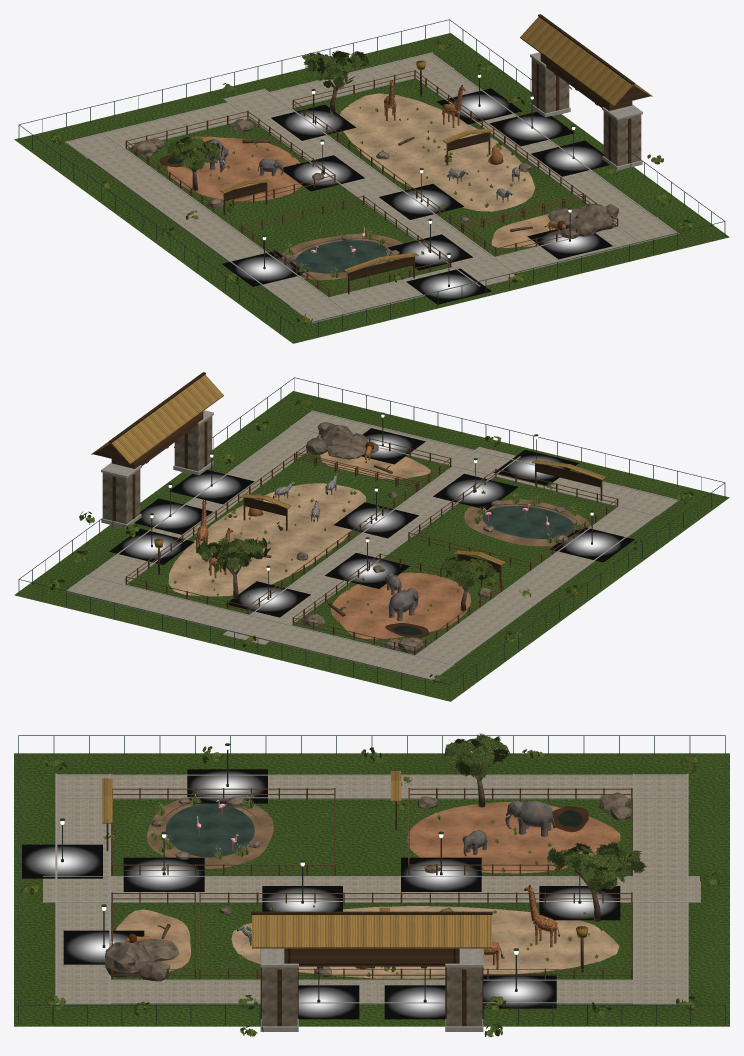
The model's file is LM_ENV_Zoo.glb.
The picture shows the model from 3 angles, top to bottom: view 1: azimuth 30°, elevation 25°; view 2: azimuth 150°, elevation 25°; view 3: azimuth 270°, elevation 25°; orthographic projection. The views are drawn at different scales.
Parts seen in each view (by area): view 1: zoo | Ground lawn, zoo | Ground paving, zoo | Ground soil, zoo | Night wash lamp, zoo | Zoo timber, zoo | Zoo concrete, zoo | Zoo stone, zoo | Zoo foliage, zoo | Zoo attap, zoo | Painted steel, zoo | Zoo pond water, zoo | Giraffe coat (+1 smaller); view 2: zoo | Ground lawn, zoo | Ground paving, zoo | Ground soil, zoo | Night wash lamp, zoo | Zoo timber, zoo | Zoo concrete, zoo | Zoo stone, zoo | Zoo foliage, zoo | Zoo attap, zoo | Painted steel, zoo | Zoo pond water, zoo | Elephant hide (+1 smaller); view 3: zoo | Ground lawn, zoo | Ground paving, zoo | Night wash lamp, zoo | Ground soil, zoo | Zoo timber, zoo | Zoo concrete, zoo | Zoo attap, zoo | Zoo foliage, zoo | Zoo stone, zoo | Zoo pond water, zoo | Painted steel, zoo | Elephant hide (+1 smaller).
Part boxes in pixels (x1,y1,x2,y2): zoo | Ground lawn: (14,33,729,343); zoo | Ground paving: (66,53,677,321); zoo | Ground soil: (159,93,555,280); zoo | Night wash lamp: (222,88,612,304); zoo | Zoo timber: (125,14,650,296); zoo | Zoo concrete: (64,52,679,323); zoo | Zoo stone: (131,58,641,277); zoo | Zoo foliage: (51,40,693,324); zoo | Zoo attap: (219,16,652,273); zoo | Painted steel: (18,19,725,341); zoo | Zoo pond water: (167,157,387,273); zoo | Giraffe coat: (384,81,465,127); zoo | Ground lawn: (14,391,729,701); zoo | Ground paving: (66,411,677,679); zoo | Ground soil: (168,451,591,639); zoo | Night wash lamp: (109,428,634,617); zoo | Zoo timber: (93,372,618,654); zoo | Zoo concrete: (64,410,678,681); zoo | Zoo stone: (102,416,588,653); zoo | Zoo foliage: (48,398,693,683); zoo | Zoo attap: (91,374,605,565); zoo | Painted steel: (18,377,725,699); zoo | Zoo pond water: (393,506,574,635); zoo | Elephant hide: (385,573,418,620); zoo | Ground lawn: (14,753,729,1026); zoo | Ground paving: (43,774,700,1004); zoo | Night wash lamp: (22,769,620,1019); zoo | Ground soil: (115,799,620,978); zoo | Zoo timber: (106,767,632,1026); zoo | Zoo concrete: (43,773,700,1031); zoo | Zoo attap: (102,771,588,948); zoo | Zoo foliage: (19,733,721,1037); zoo | Zoo stone: (105,792,632,1026); zoo | Zoo pond water: (165,803,582,857); zoo | Painted steel: (18,735,725,1024); zoo | Elephant hide: (462,800,554,856).
Size of the model in its own units: 59.71 by 11.5 by 62.
19 materials, 16 textured.
